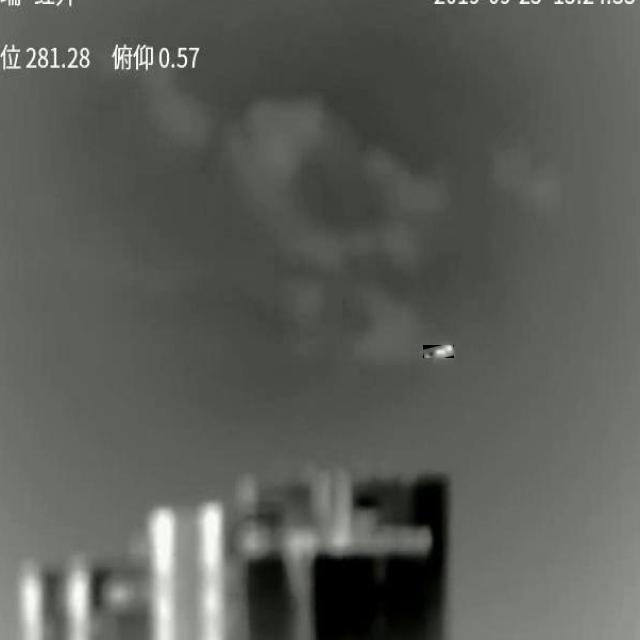drone: (424, 345, 454, 358)
